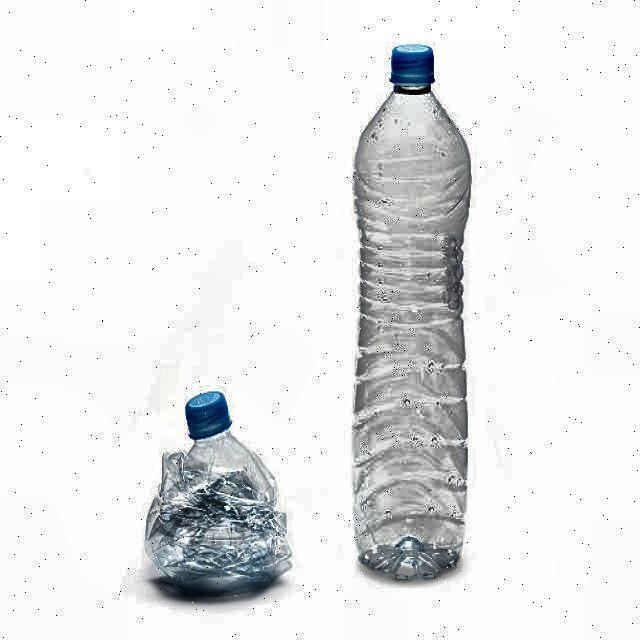plastic: (350, 41, 472, 586), (144, 390, 293, 599)
